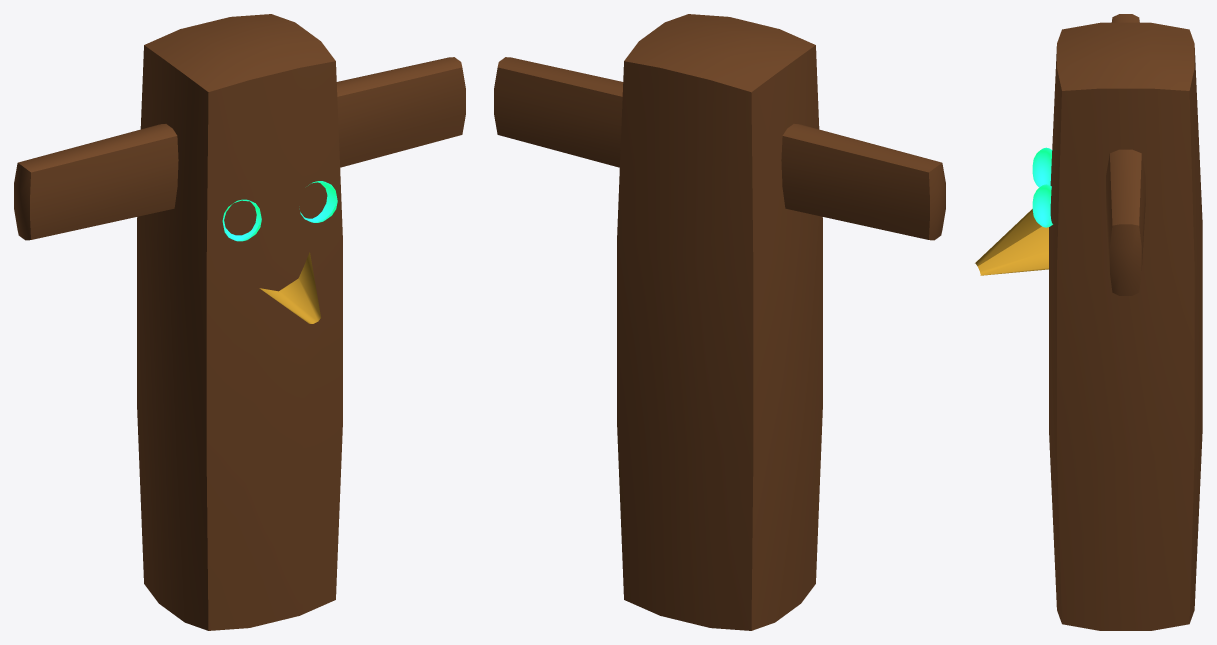
Rendered from totem.glb.
3 views of the same model, side by side, from view 1: azimuth 30°, elevation 25°; view 2: azimuth 150°, elevation 25°; view 3: azimuth 270°, elevation 25° (orthographic).
Visible parts, largest first — view 1: JungleTotem; view 2: JungleTotem; view 3: JungleTotem.
Part boxes in pixels (<box>): JungleTotem: <box>14,14,465,630</box>; JungleTotem: <box>494,14,945,630</box>; JungleTotem: <box>975,14,1202,630</box>.
Size of the model in its own units: 2.8 by 3.4 by 1.26.
